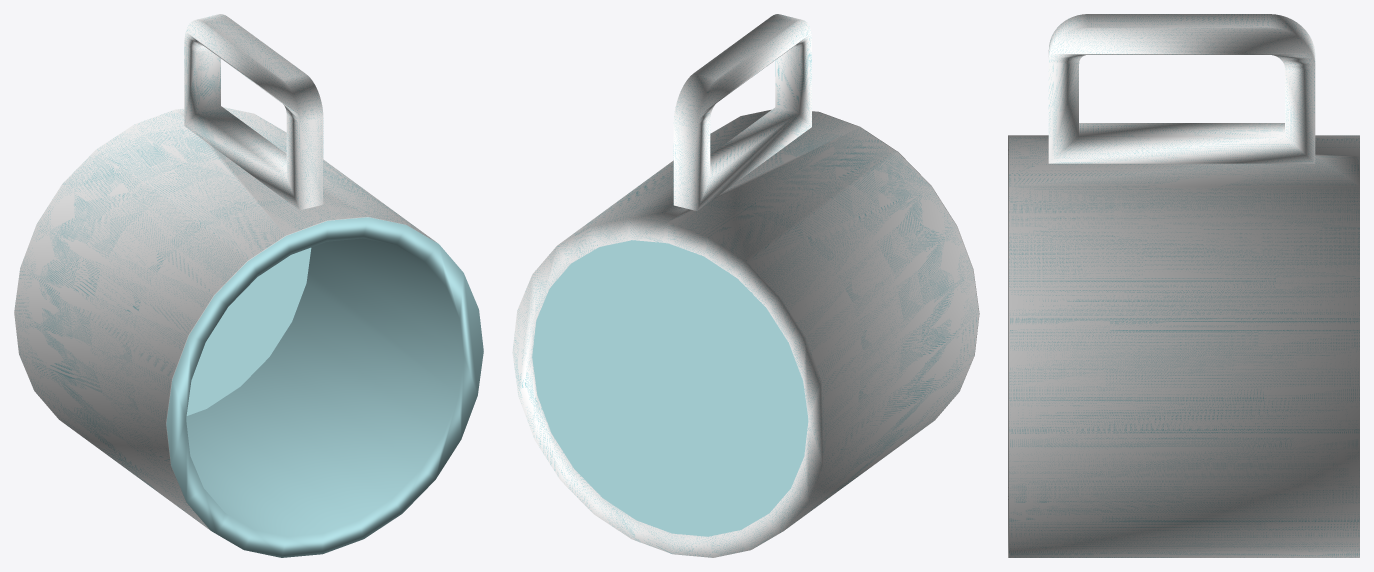
The model's file is model_align.obj.
3 renders of one model, left to right at view 1: azimuth 30°, elevation 25°; view 2: azimuth 150°, elevation 25°; view 3: azimuth 270°, elevation 25°, orthographic. The views are drawn at different scales.
Visible parts, largest first — view 1: mesh1_mesh1-geometry; view 2: mesh1_mesh1-geometry; view 3: mesh1_mesh1-geometry.
Boxes of the visible parts, x1=… form: mesh1_mesh1-geometry: x1=14, y1=14, x2=483, y2=557; mesh1_mesh1-geometry: x1=512, y1=14, x2=979, y2=557; mesh1_mesh1-geometry: x1=1008, y1=14, x2=1359, y2=557.
Size of the model in its own units: 0.086 by 0.1166 by 0.0714.
